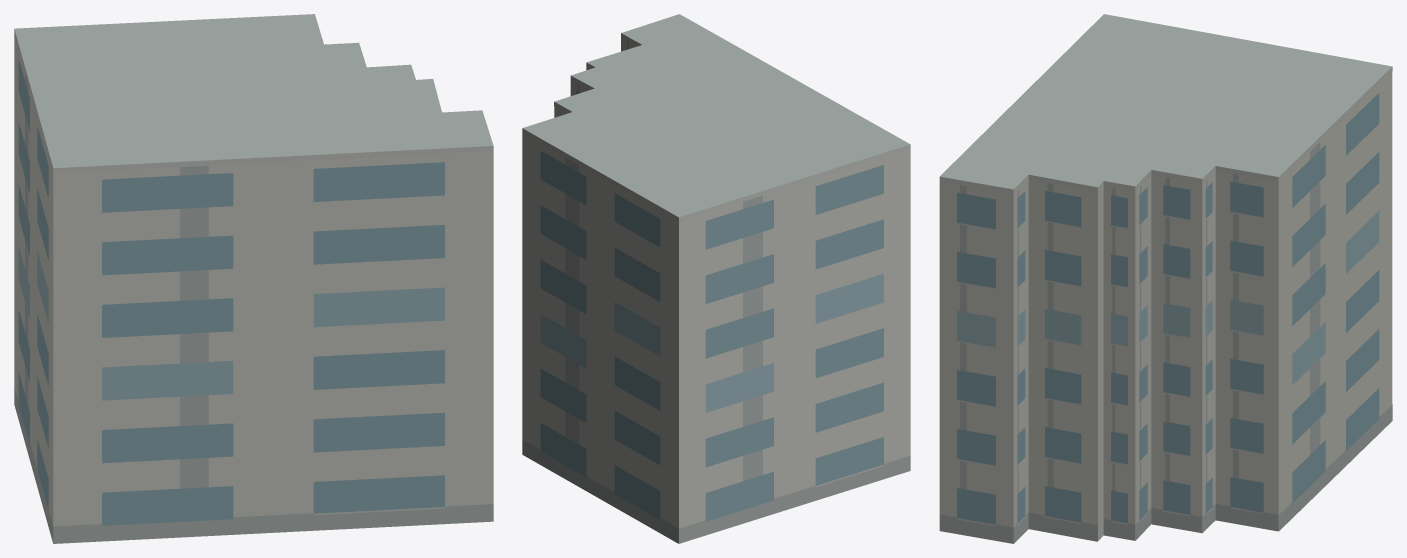
Rendered from survey-upis-32847558.glb.
3 renders of one model, left to right at view 1: azimuth 30°, elevation 25°; view 2: azimuth 150°, elevation 25°; view 3: azimuth 270°, elevation 25°, orthographic. The views are drawn at different scales.
Visible parts, largest first — view 1: survey-upis-32847558.tmp; view 2: survey-upis-32847558.tmp; view 3: survey-upis-32847558.tmp.
Part boxes in pixels (left/top/right/bottom): survey-upis-32847558.tmp: left=14, top=14, right=493, bottom=543; survey-upis-32847558.tmp: left=522, top=14, right=910, bottom=543; survey-upis-32847558.tmp: left=939, top=14, right=1392, bottom=543.
Bounding box in the file's own units: 18.27 × 17.2 × 19.93.
